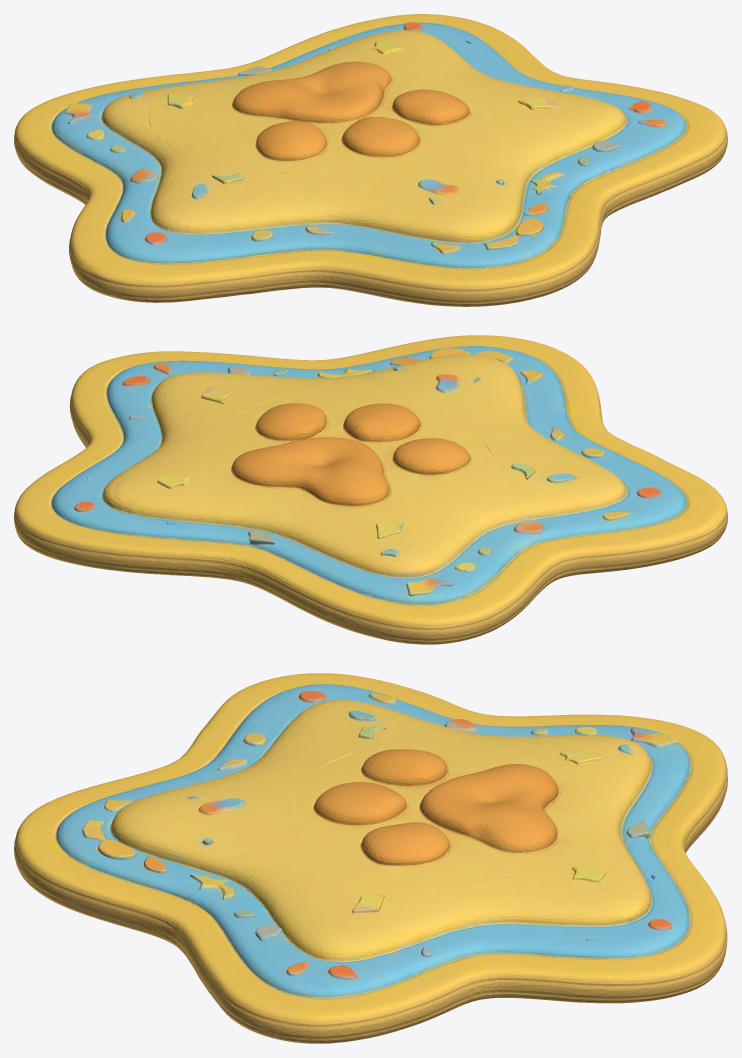
3 renders of one model, top to bottom at view 1: azimuth 30°, elevation 25°; view 2: azimuth 150°, elevation 25°; view 3: azimuth 270°, elevation 25°, orthographic. The views are drawn at different scales.
Parts seen in each view (by area): view 1: tripo_node_901a44b6-8a68-47ca-9312-9e6b92ee1c63; view 2: tripo_node_901a44b6-8a68-47ca-9312-9e6b92ee1c63; view 3: tripo_node_901a44b6-8a68-47ca-9312-9e6b92ee1c63.
Part boxes in pixels (x1,y1,x2,y2): tripo_node_901a44b6-8a68-47ca-9312-9e6b92ee1c63: (14,14,727,306); tripo_node_901a44b6-8a68-47ca-9312-9e6b92ee1c63: (14,335,727,644); tripo_node_901a44b6-8a68-47ca-9312-9e6b92ee1c63: (14,673,727,1043).
Bounding box in the file's own units: 0.9806 × 0.1136 × 0.846.
1 material, 1 textured.
